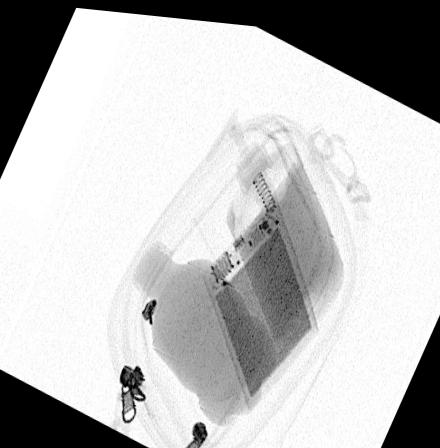Powerbank: (200, 185, 319, 406)
